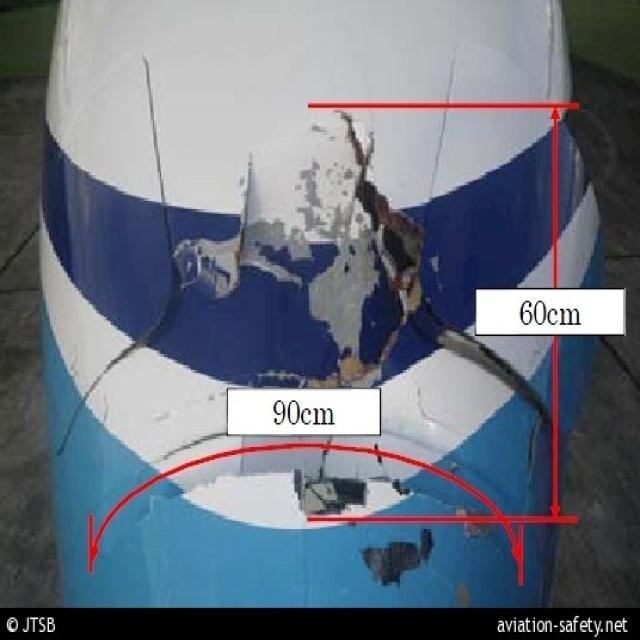crack: (336, 115, 552, 427), (60, 48, 187, 455), (217, 160, 266, 295)
